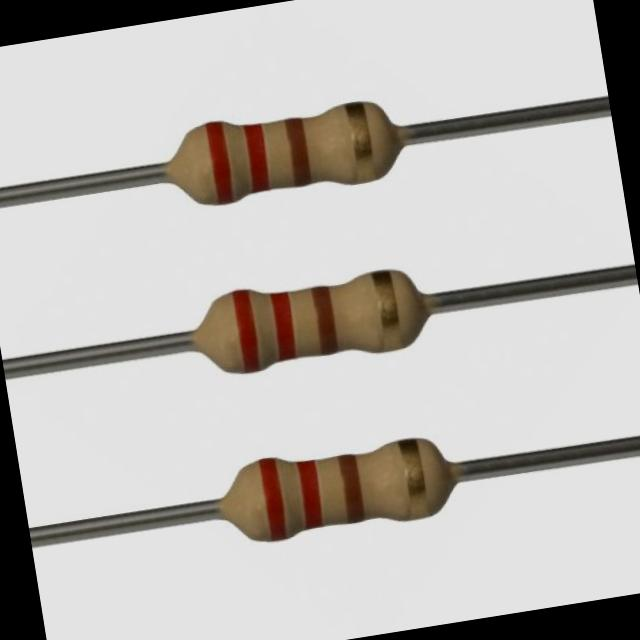Resistor: (222, 436, 460, 542), (194, 267, 429, 374), (201, 103, 398, 203)
brown: (309, 285, 339, 354), (284, 117, 314, 185), (340, 452, 366, 523)
gold: (398, 439, 430, 519), (345, 103, 374, 182), (372, 271, 401, 349)
red: (232, 290, 260, 372), (205, 122, 233, 203), (259, 458, 286, 541), (243, 124, 270, 192), (298, 460, 323, 529), (271, 292, 296, 361)
